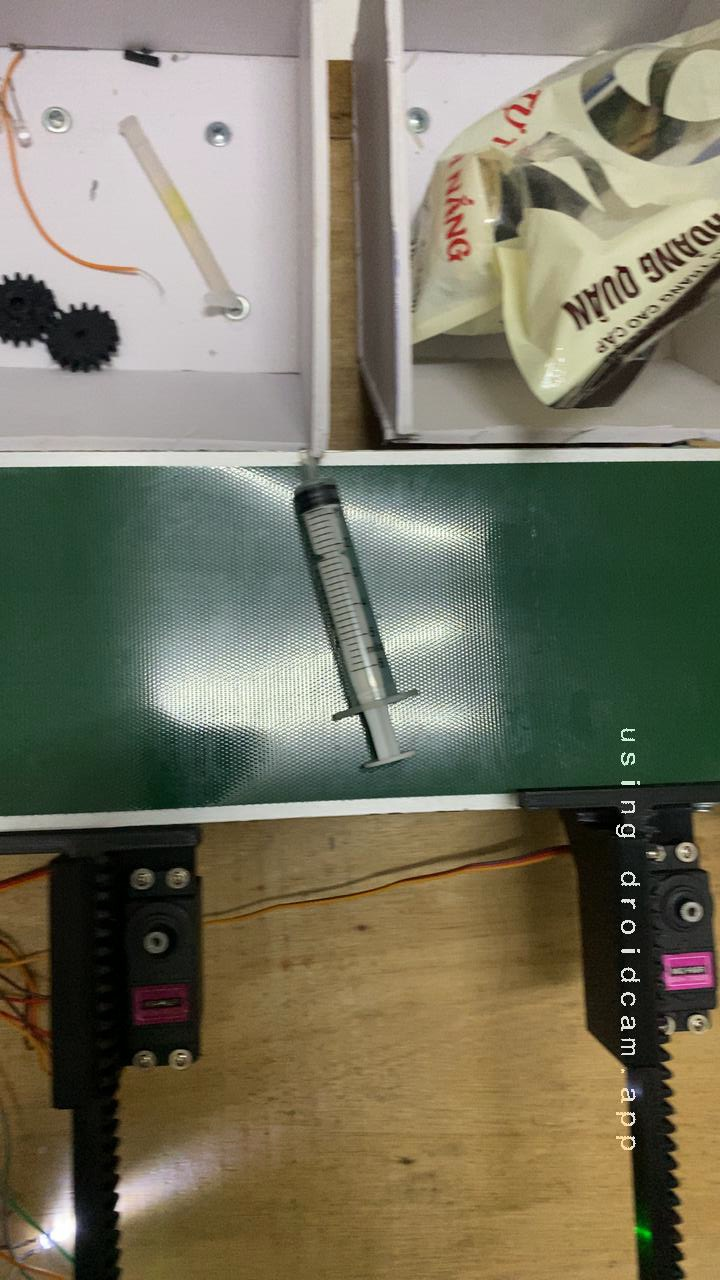syringe: (246, 445, 434, 789)
